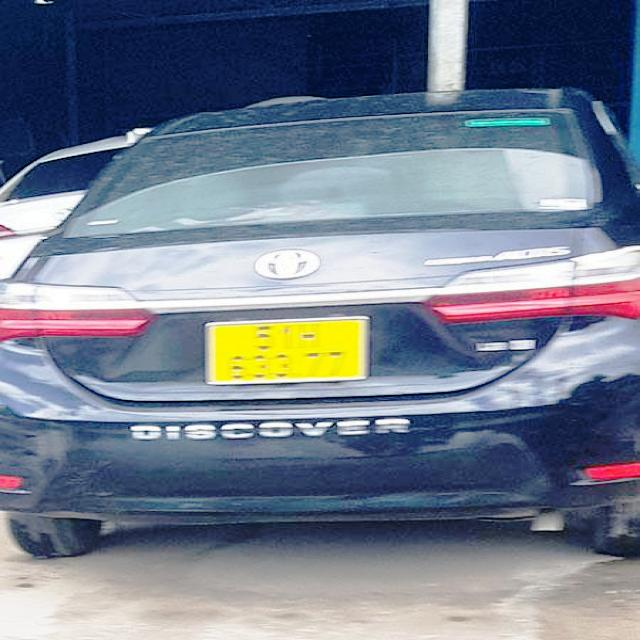license_plate: (205, 317, 371, 385)
